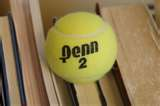tennis ball: (41, 10, 119, 83)
